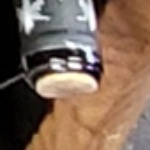bottle: (19, 38, 116, 113)
